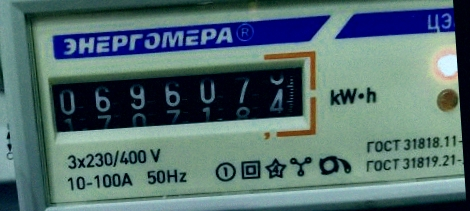0: (55, 85, 78, 117), (197, 75, 218, 105)
4: (265, 86, 286, 116)
6: (161, 77, 183, 110), (91, 83, 112, 113)
7: (232, 72, 252, 104)
9: (126, 81, 148, 111)
screen: (36, 43, 324, 154)
